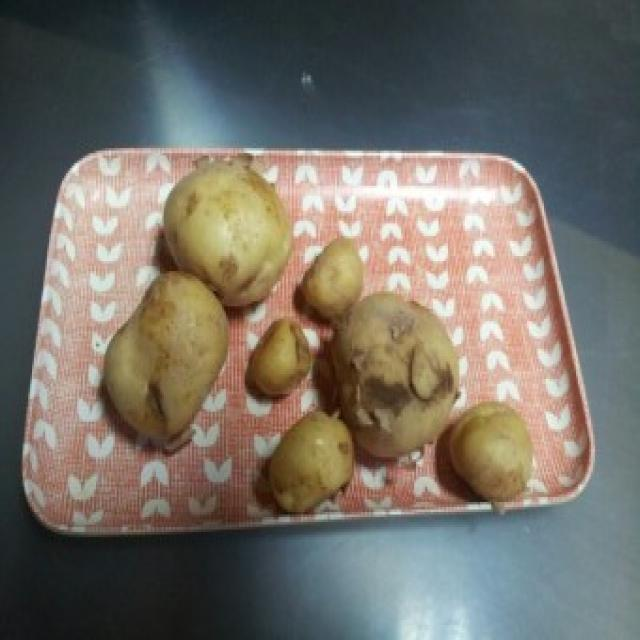potato: (317, 282, 454, 470), (104, 268, 234, 451), (157, 155, 291, 304), (446, 392, 536, 503), (268, 403, 350, 522), (244, 310, 312, 408), (300, 237, 364, 319)
